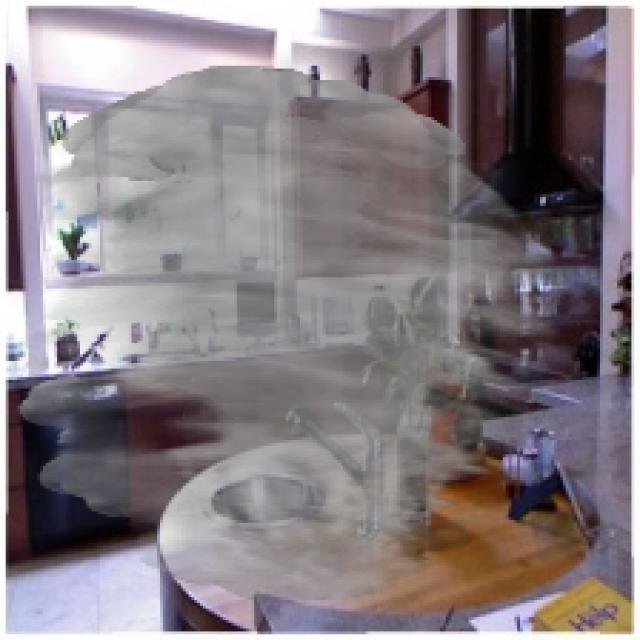Smoke: (17, 66, 566, 603)
